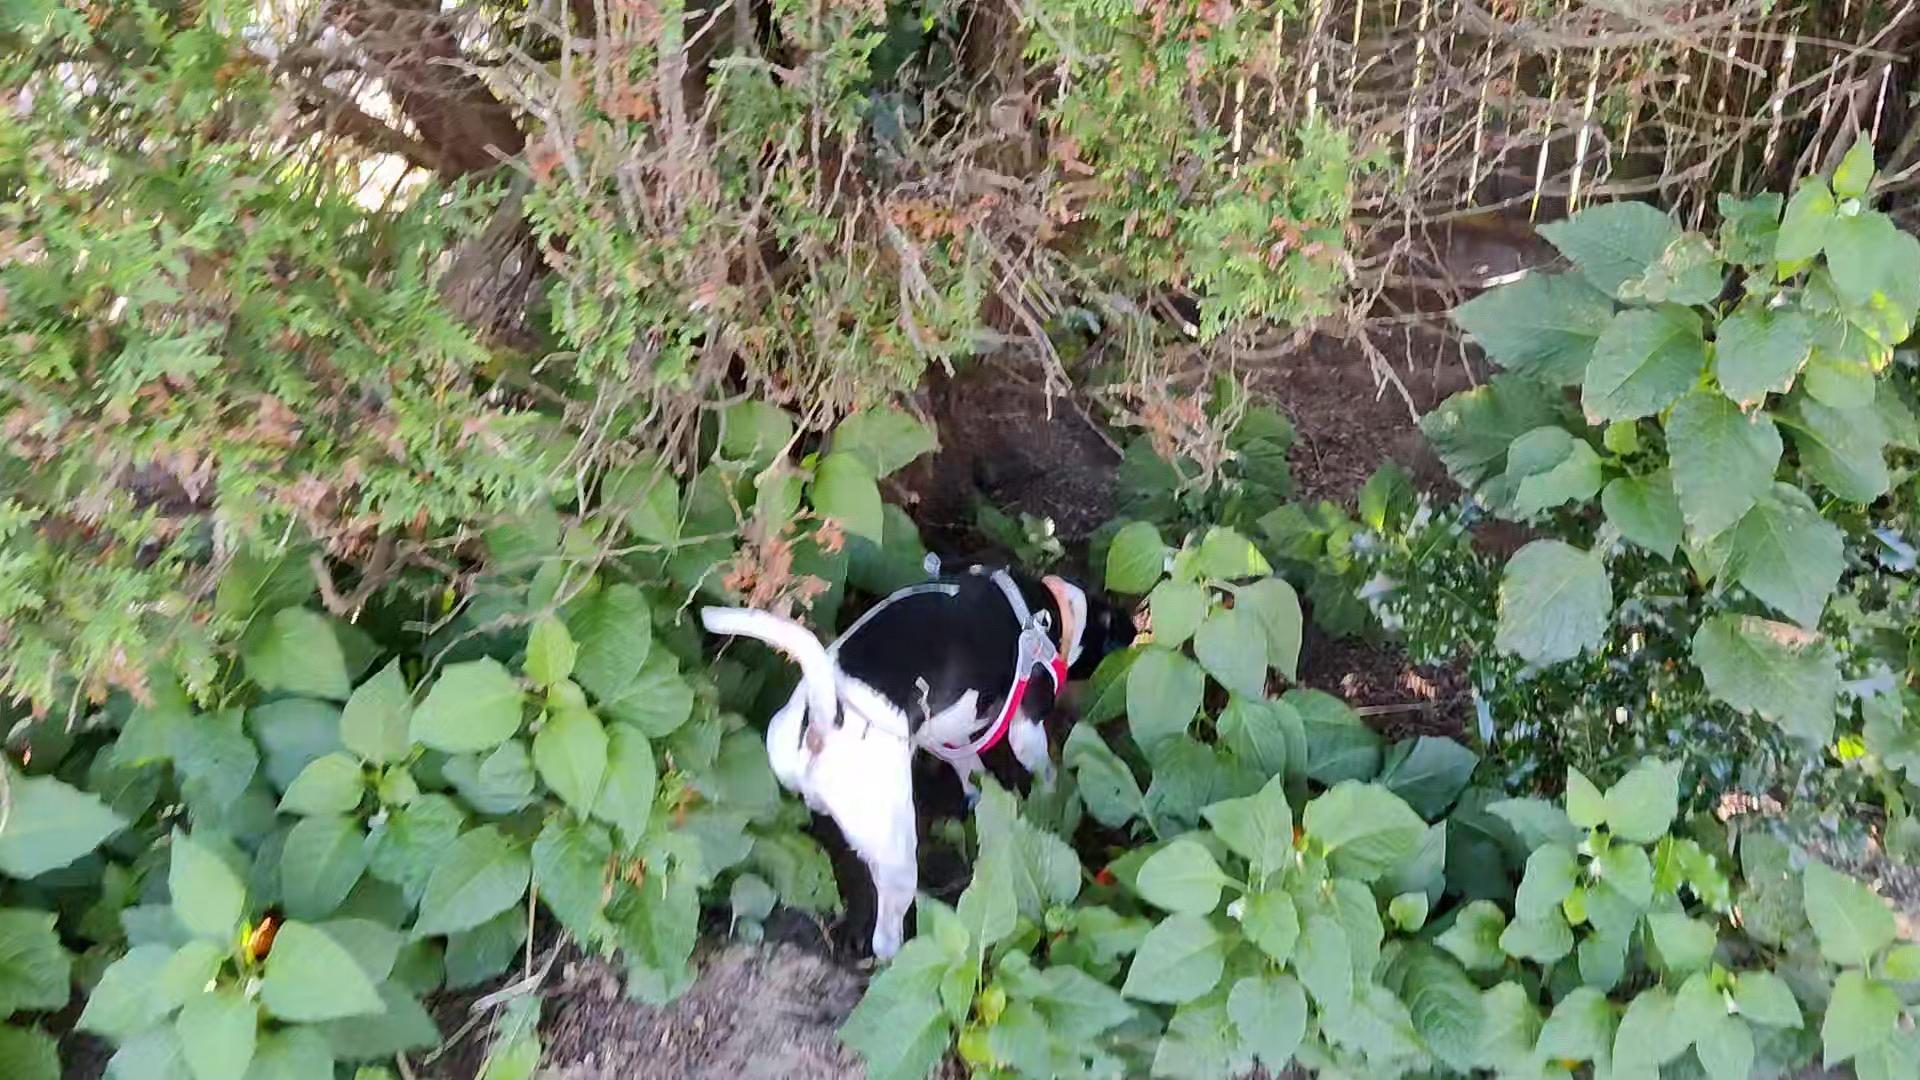Dog: (667, 543, 1156, 971)
